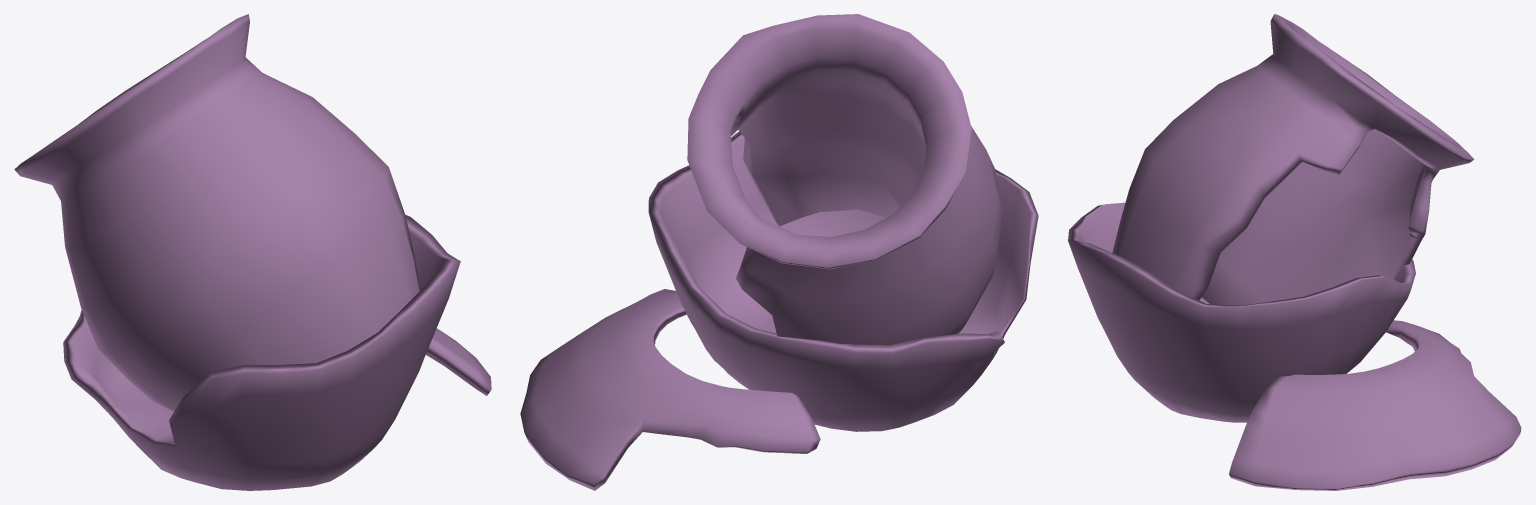
File: Jar_Break_05A_Lod0.fbx
3 views of the same model, side by side, from view 1: azimuth 30°, elevation 25°; view 2: azimuth 150°, elevation 25°; view 3: azimuth 270°, elevation 25° (orthographic). The views are drawn at different scales.
Visible parts, largest first — view 1: Jar_Break_05A_Lod0; view 2: Jar_Break_05A_Lod0; view 3: Jar_Break_05A_Lod0.
Part boxes in pixels (box(x1,y1,x2,y2)): Jar_Break_05A_Lod0: box(14, 14, 491, 490); Jar_Break_05A_Lod0: box(520, 14, 1038, 490); Jar_Break_05A_Lod0: box(1067, 14, 1521, 490).
Size of the model in its own units: 47.36 by 43.49 by 50.13.
